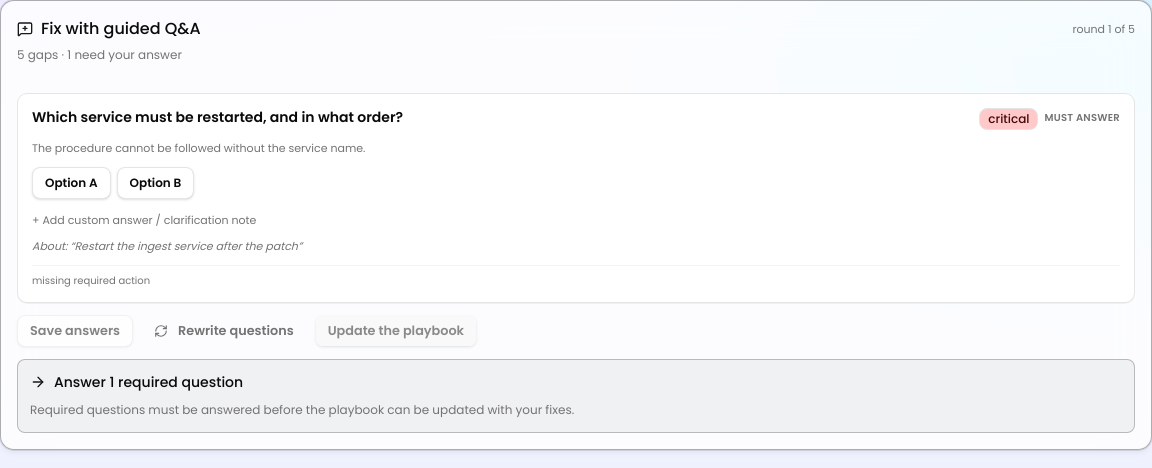
Test: ClarificationPanel › allows selecting a choice button and auto-updating the answer
Expected: the button "Option B" is shown, [117,167,194,199]
Click the button "Option A" at (71, 183), box [32,167,111,199]
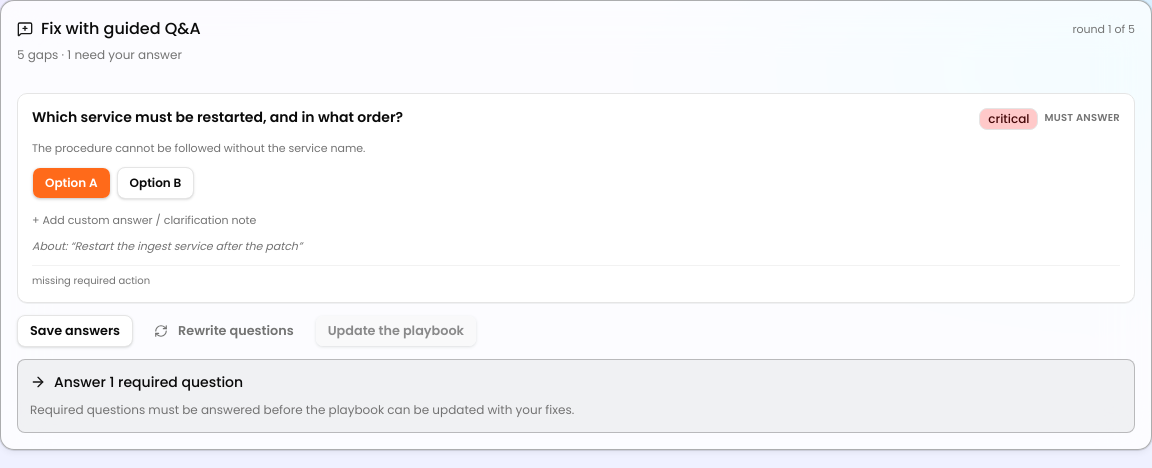
Expected: the button "Save answers" is enabled, [17,315,133,347]
